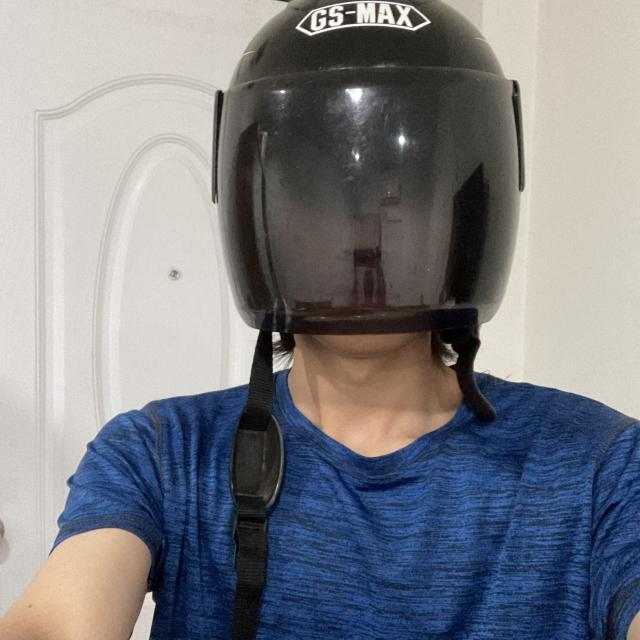illegal_helmet: (204, 0, 534, 640)
